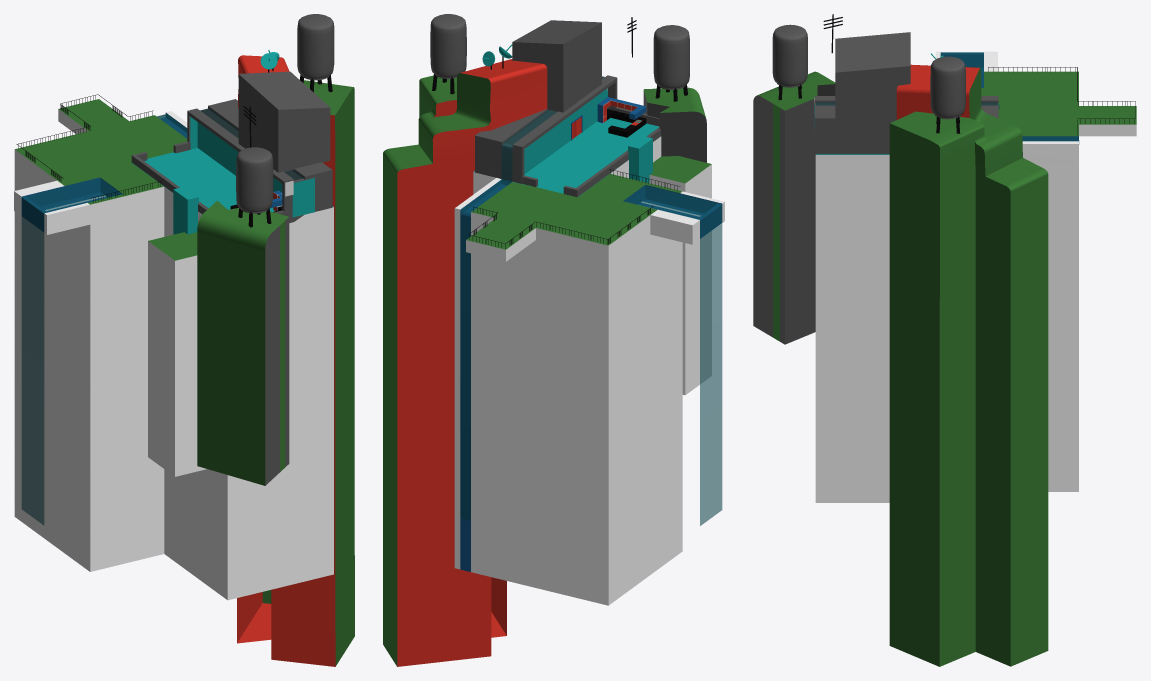
Rendered from Export_Level_Base_Final_03_-90drg.FBX.
3 renders of one model, left to right at view 1: azimuth 30°, elevation 25°; view 2: azimuth 150°, elevation 25°; view 3: azimuth 270°, elevation 25°, orthographic. The views are drawn at different scales.
Parts seen in each view (by area): view 1: Base bâtiment, Background base, water piscine, Chateau d'eau, mur fond, barrière, mur batiment; view 2: Base bâtiment, Background base, water piscine, Chateau d'eau, mur fond, cuisine 002, mur batiment, barrière; view 3: Background base, Base bâtiment, Chateau d'eau, water piscine.
Part boxes in pixels (x1,y1,x2,y2): Base bâtiment: (14,99,333,600); Background base: (148,55,354,666); water piscine: (21,108,303,525); Chateau d'eau: (236,14,334,227); mur fond: (190,117,314,217); barrière: (16,94,162,202); mur batiment: (131,141,292,218); Base bâtiment: (454,118,724,605); Background base: (383,20,711,666); water piscine: (460,76,722,525); Chateau d'eau: (430,14,689,101); mur fond: (524,89,607,174); cuisine 002: (602,97,646,137); mur batiment: (522,107,660,197); barrière: (468,169,680,248); Background base: (753,32,1048,666); Base bâtiment: (815,51,1136,502); Chateau d'eau: (772,24,965,133); water piscine: (816,52,1079,144).
Bounding box in the file's own units: 5438 × 10417 × 6153.
